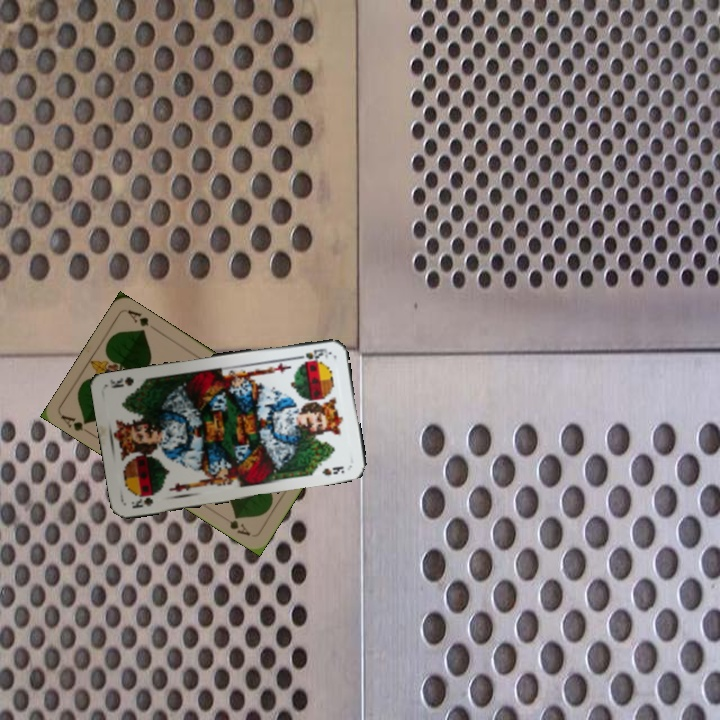GA: (57, 411, 95, 437)
SK: (291, 344, 332, 362), (127, 490, 158, 511)
